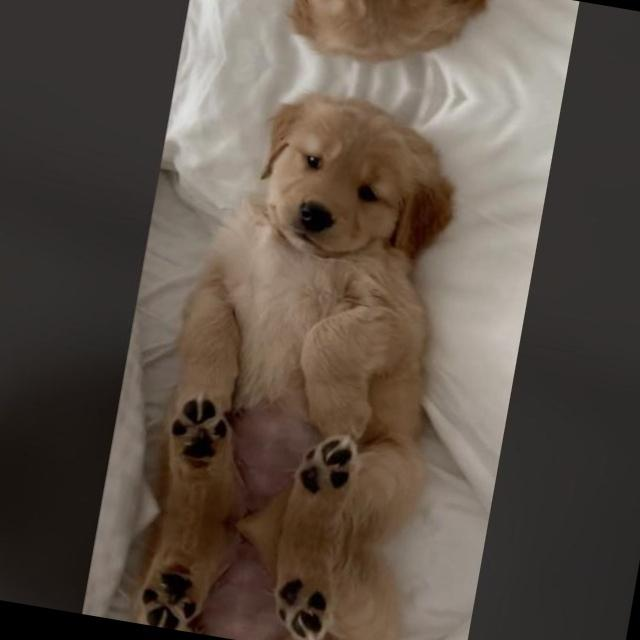dog: (119, 68, 468, 550), (100, 503, 392, 640), (202, 0, 490, 83)
